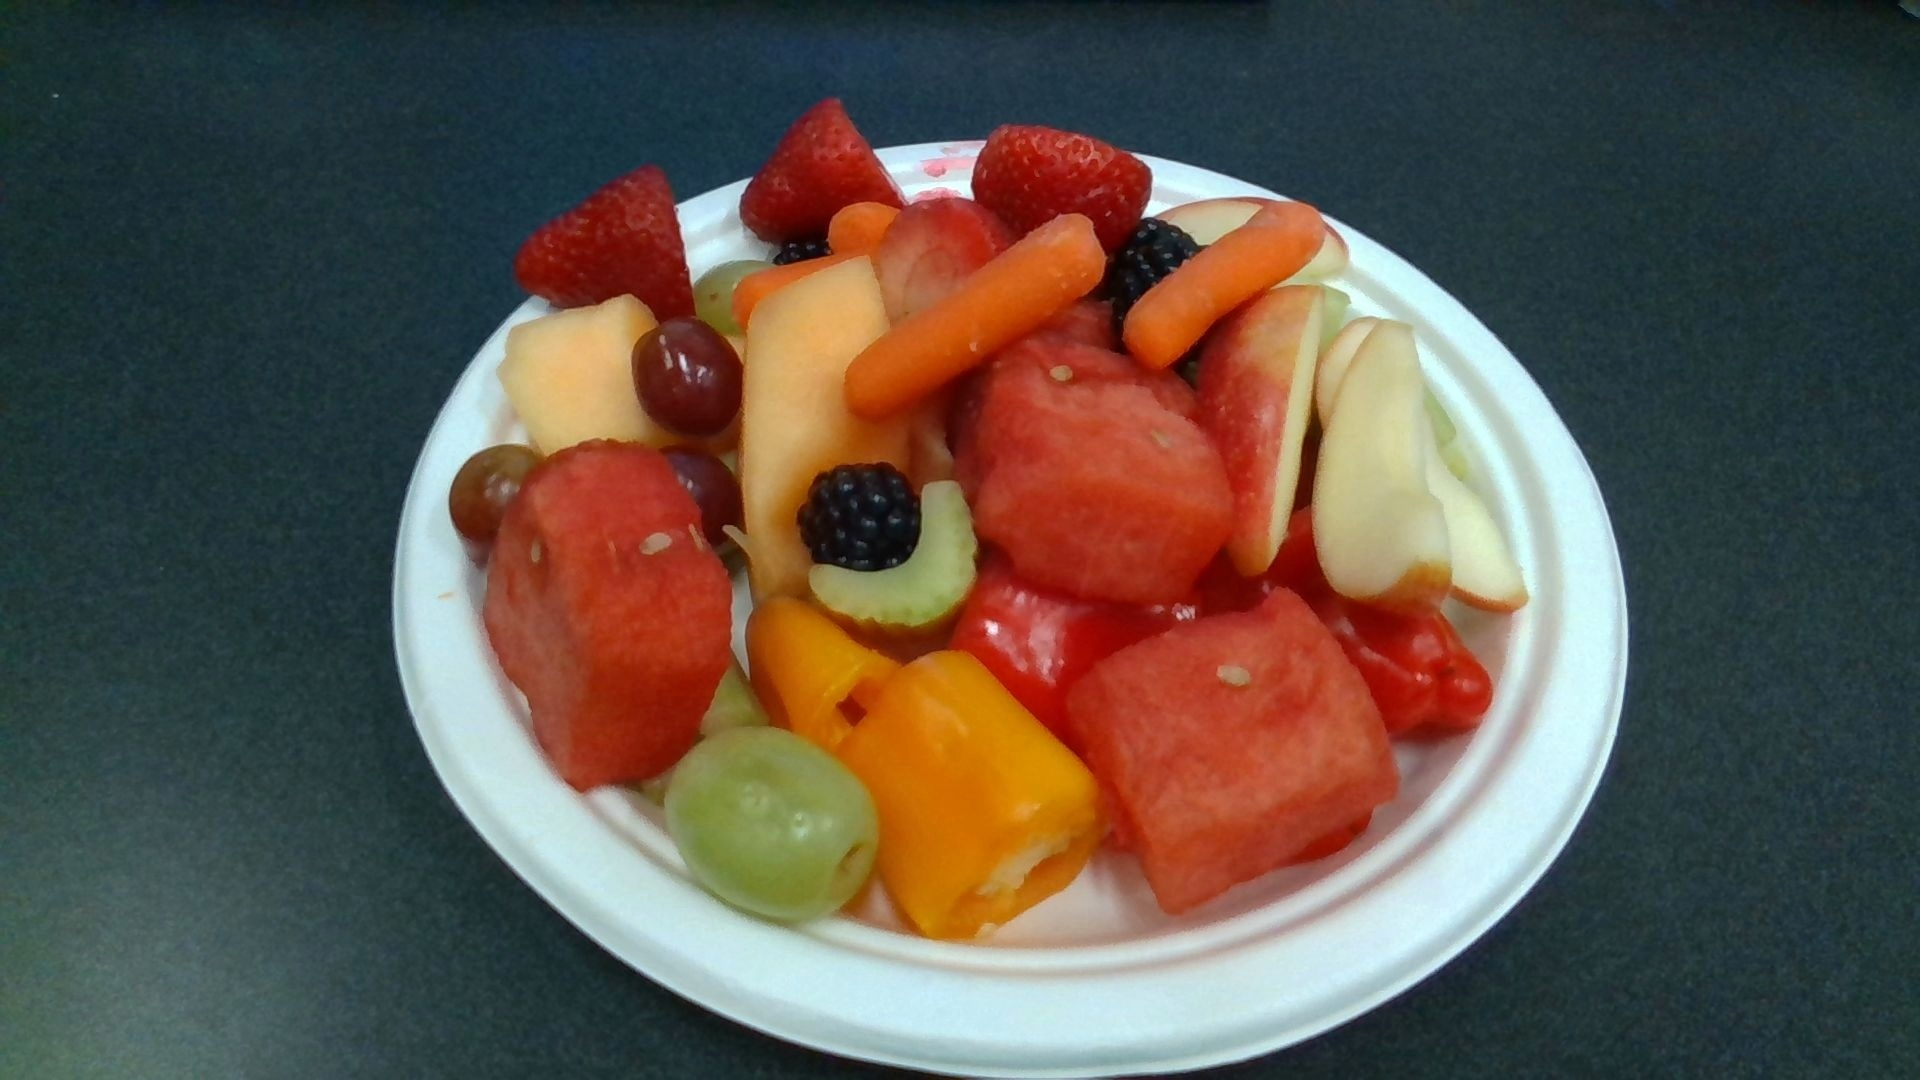apple: (1200, 287, 1346, 578), (1313, 323, 1452, 615)
bell_pepper: (840, 651, 1095, 936), (746, 595, 905, 746)
blackberry: (800, 463, 922, 570)
cantalope: (744, 256, 910, 600)
carrot: (844, 215, 1104, 418), (1122, 200, 1324, 368)
grape_green: (667, 731, 880, 923)
grape_purple: (629, 324, 744, 433)
melon: (1075, 591, 1394, 906), (484, 440, 735, 789), (955, 335, 1232, 597)
strawberry: (520, 170, 700, 323), (744, 96, 905, 243), (975, 123, 1153, 243), (872, 195, 1014, 326)
